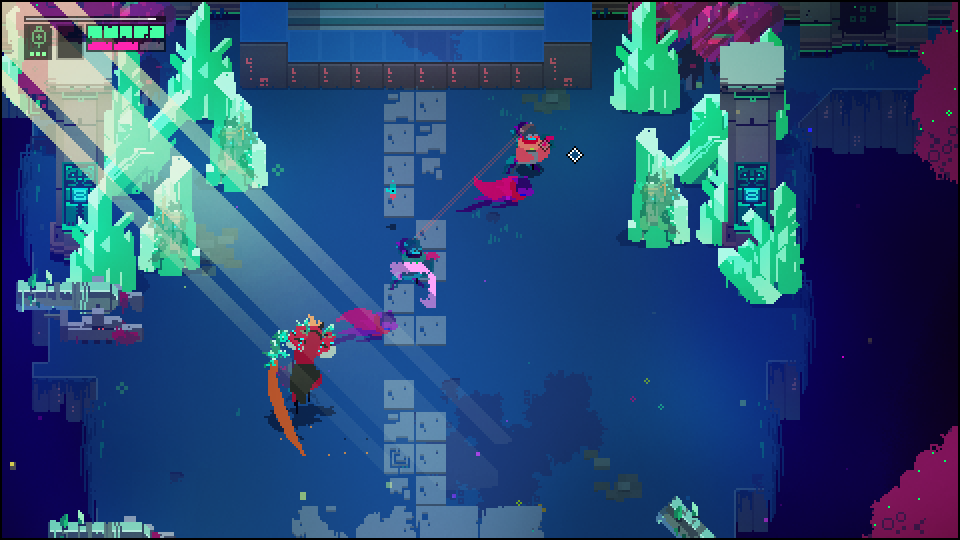hanged_man: (261, 314, 339, 432)
player: (504, 125, 544, 177)
